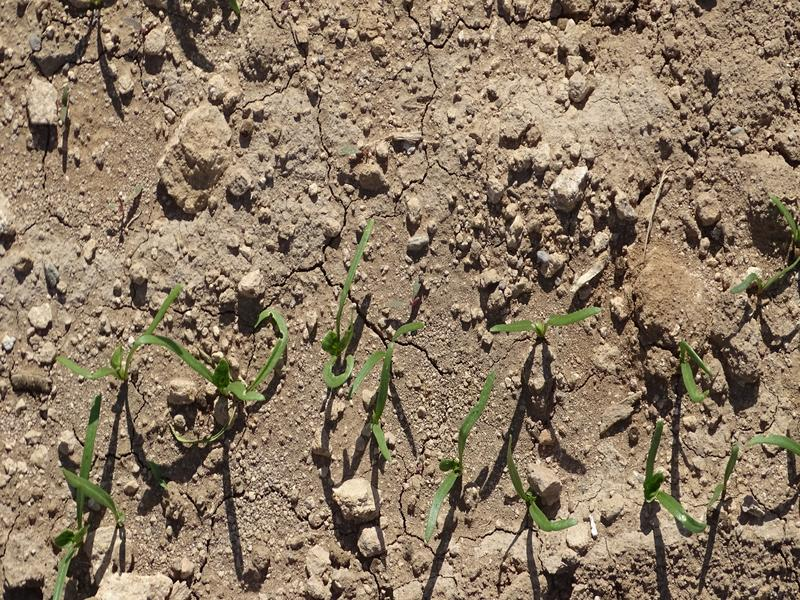Espinaca: (67, 296, 288, 404), (321, 223, 419, 449), (419, 372, 503, 544), (43, 398, 112, 573), (506, 441, 579, 535), (647, 423, 705, 531), (488, 306, 601, 341), (674, 341, 715, 395)
